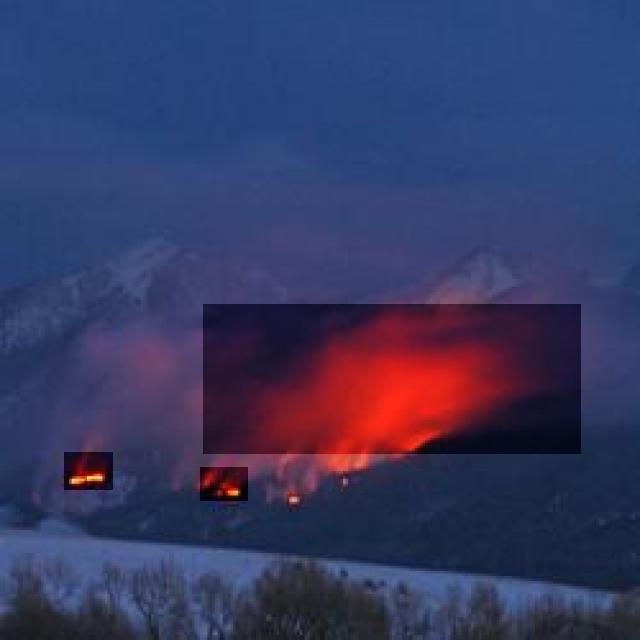Fire: (64, 452, 113, 490), (200, 468, 248, 502)
Smoke: (203, 304, 581, 454)
